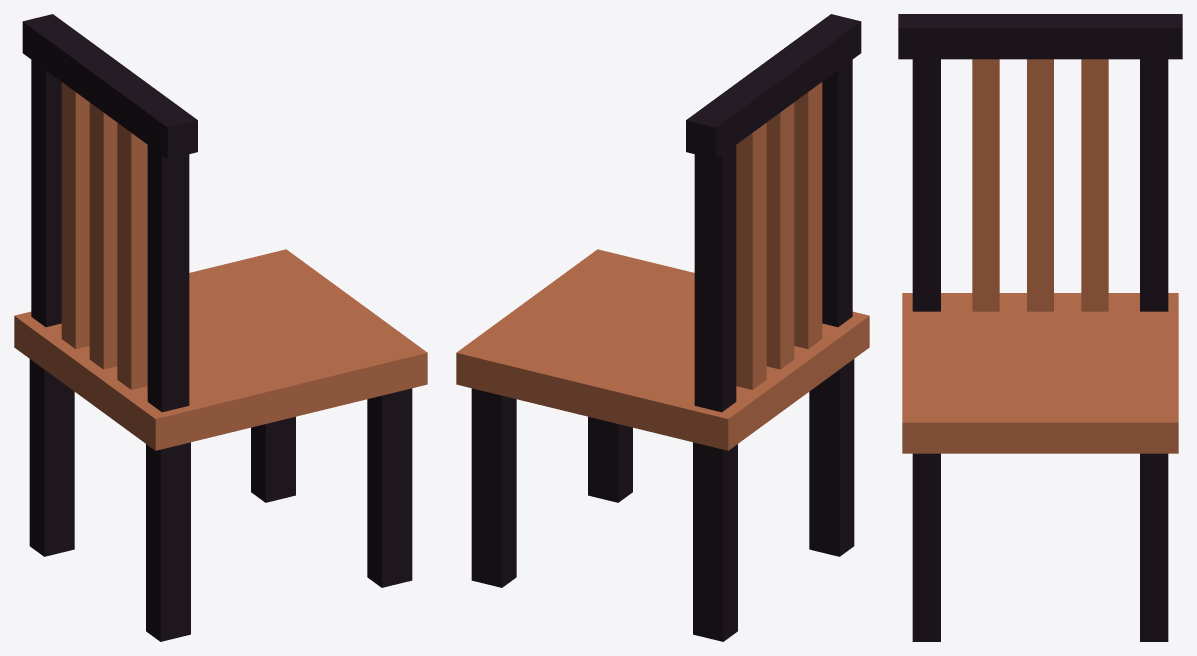
Rendered from chair.fbx.
The picture shows the model from 3 angles, left to right: view 1: azimuth 30°, elevation 25°; view 2: azimuth 150°, elevation 25°; view 3: azimuth 270°, elevation 25°; orthographic projection. The views are drawn at different scales.
Parts seen in each view (by area): view 1: Chair; view 2: Chair; view 3: Chair.
Part boxes in pixels (left/top/right/bottom): Chair: left=14, top=14, right=427, bottom=641; Chair: left=456, top=14, right=869, bottom=641; Chair: left=898, top=14, right=1182, bottom=641.
Size of the model in its own units: 216 by 395 by 200.
